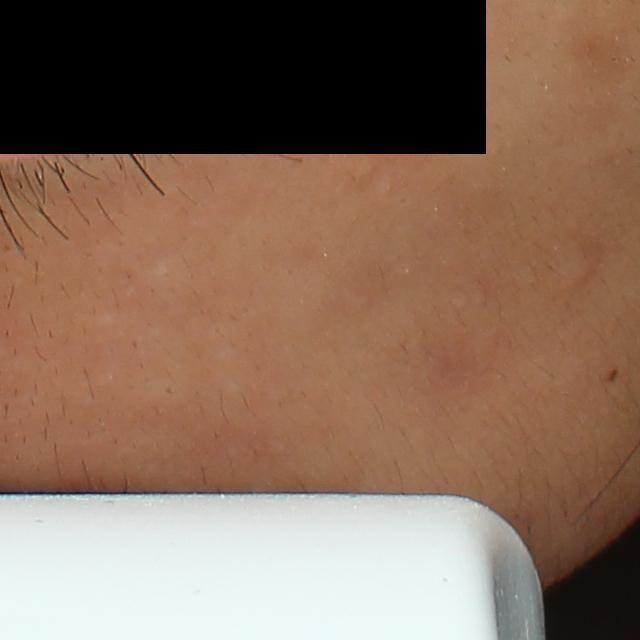hypertrophic_scar: (94, 314, 123, 330)
nevus: (605, 366, 620, 383)
